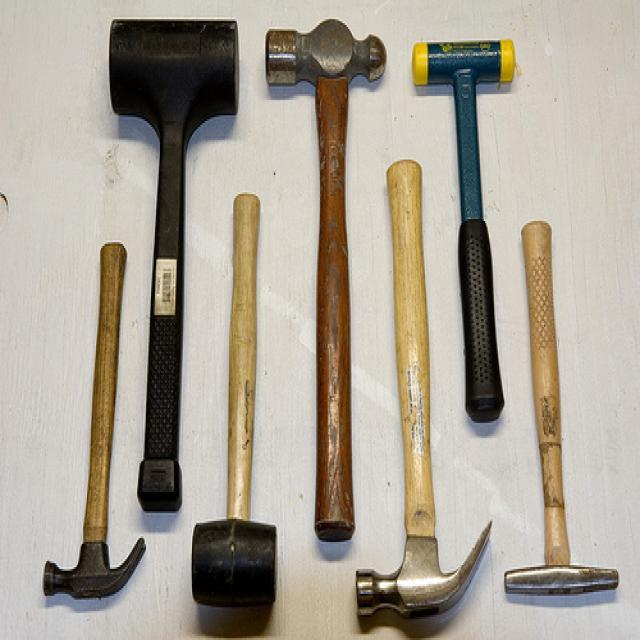hammer: (248, 0, 400, 568), (94, 0, 248, 538), (332, 152, 500, 637), (497, 207, 637, 625), (402, 19, 536, 444), (186, 159, 290, 630), (38, 212, 150, 620)
